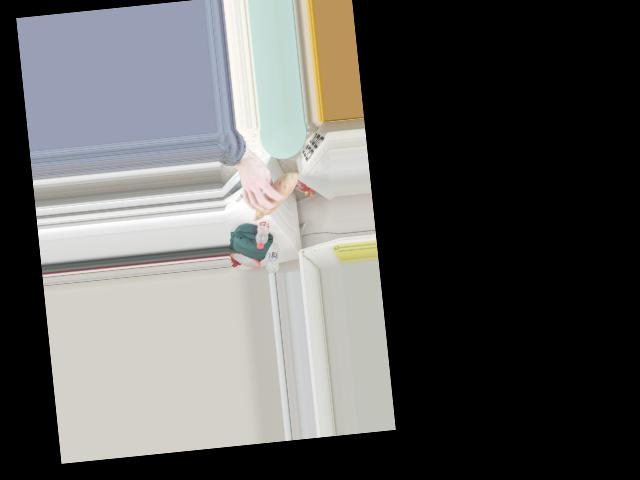sweet_potato: (245, 172, 299, 219)
